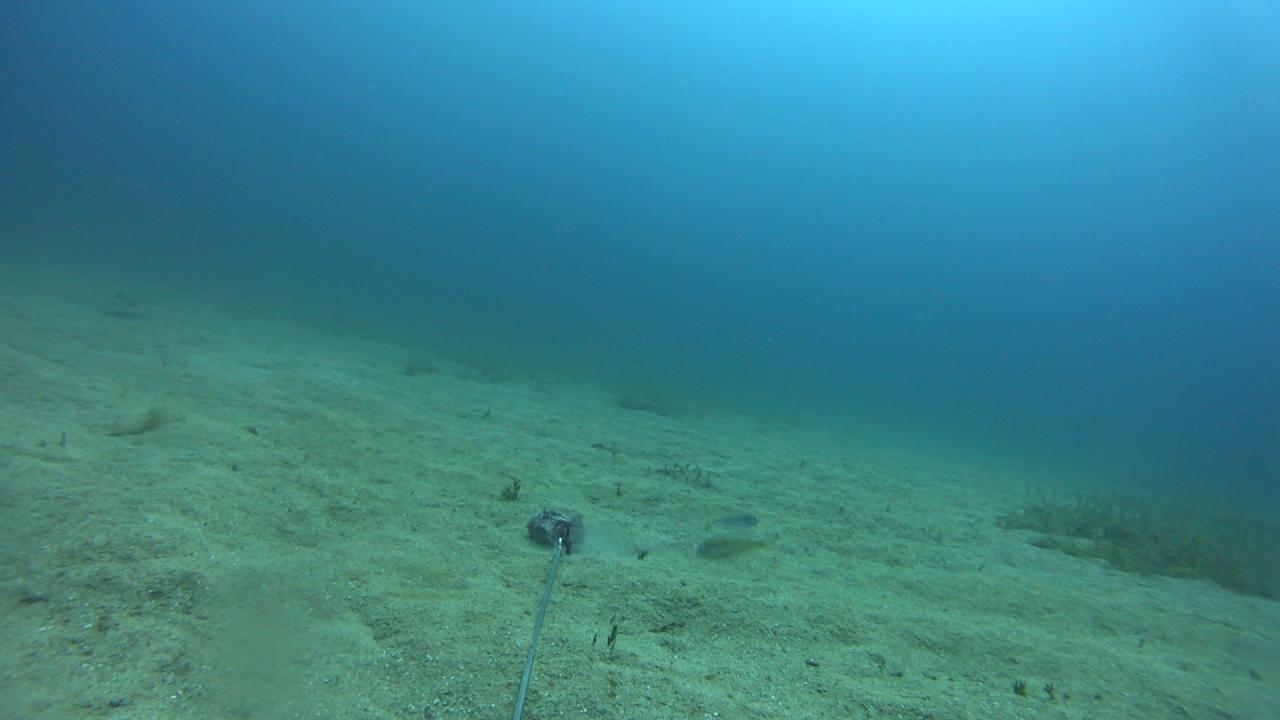dasyatis: (108, 288, 182, 310)
